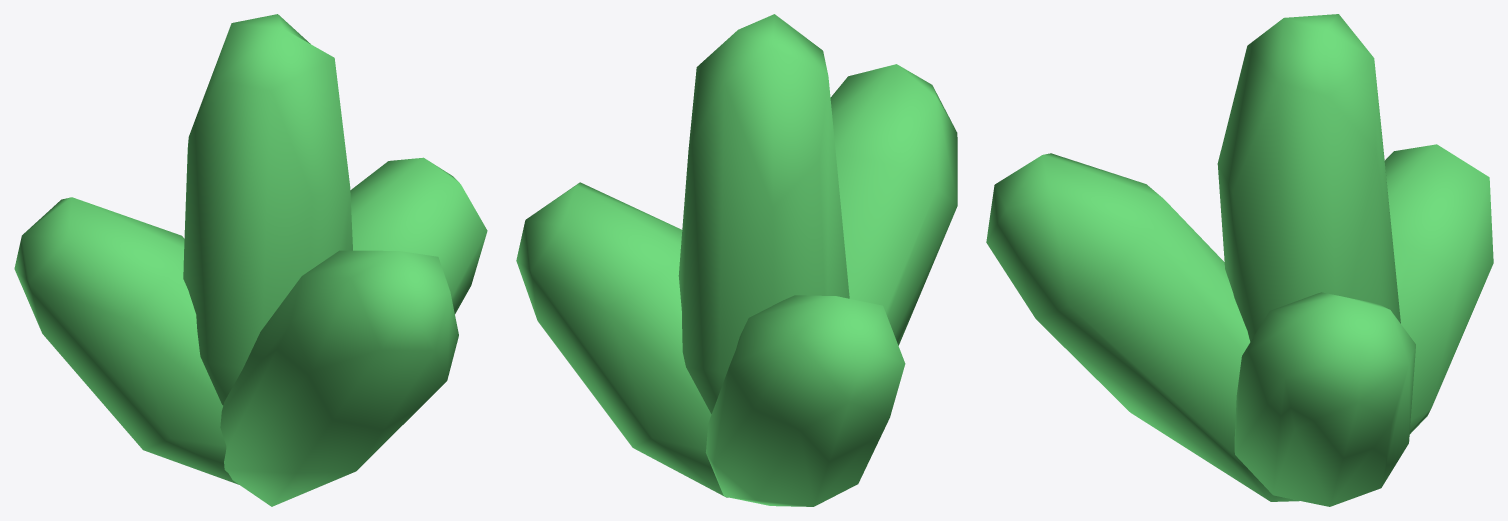
Rendered from Grass.fbx.
3 renders of one model, left to right at view 1: azimuth 30°, elevation 25°; view 2: azimuth 150°, elevation 25°; view 3: azimuth 270°, elevation 25°, orthographic. The views are drawn at different scales.
Parts seen in each view (by area): view 1: Grass; view 2: Grass; view 3: Grass.
Part boxes in pixels (left/top/right/bottom): Grass: left=14, top=14, right=487, bottom=506; Grass: left=516, top=14, right=957, bottom=506; Grass: left=986, top=14, right=1493, bottom=506.
Size of the model in its own units: 38.8 by 42.5 by 40.74.
